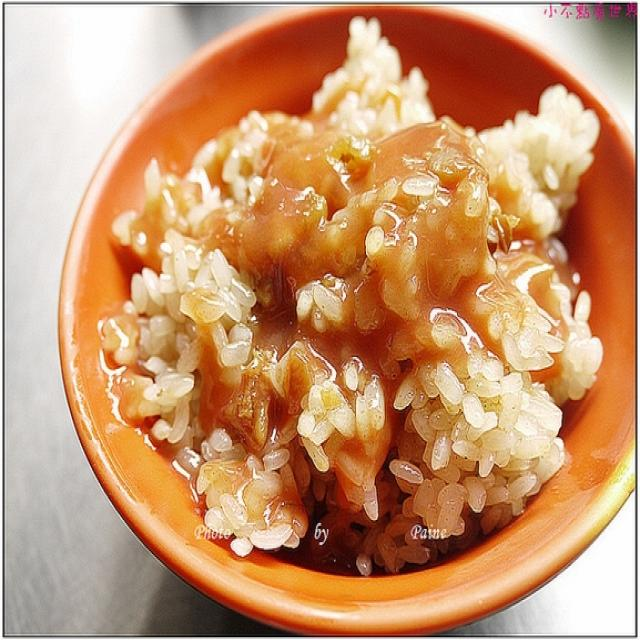米饭主食: (63, 18, 606, 575)
